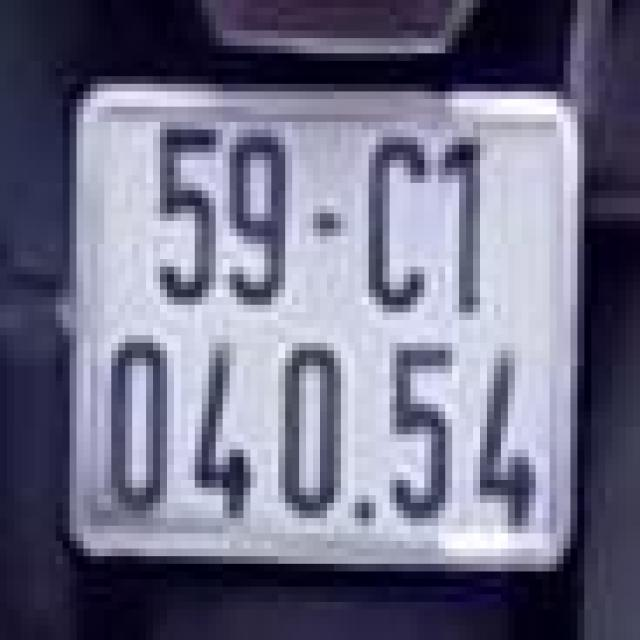0: (87, 320, 177, 533), (264, 320, 341, 518)
1: (431, 126, 501, 331)
4: (466, 331, 550, 560), (184, 324, 268, 529)
5: (132, 114, 237, 336), (386, 332, 456, 537)
9: (226, 118, 303, 309)
C: (344, 118, 456, 332)
